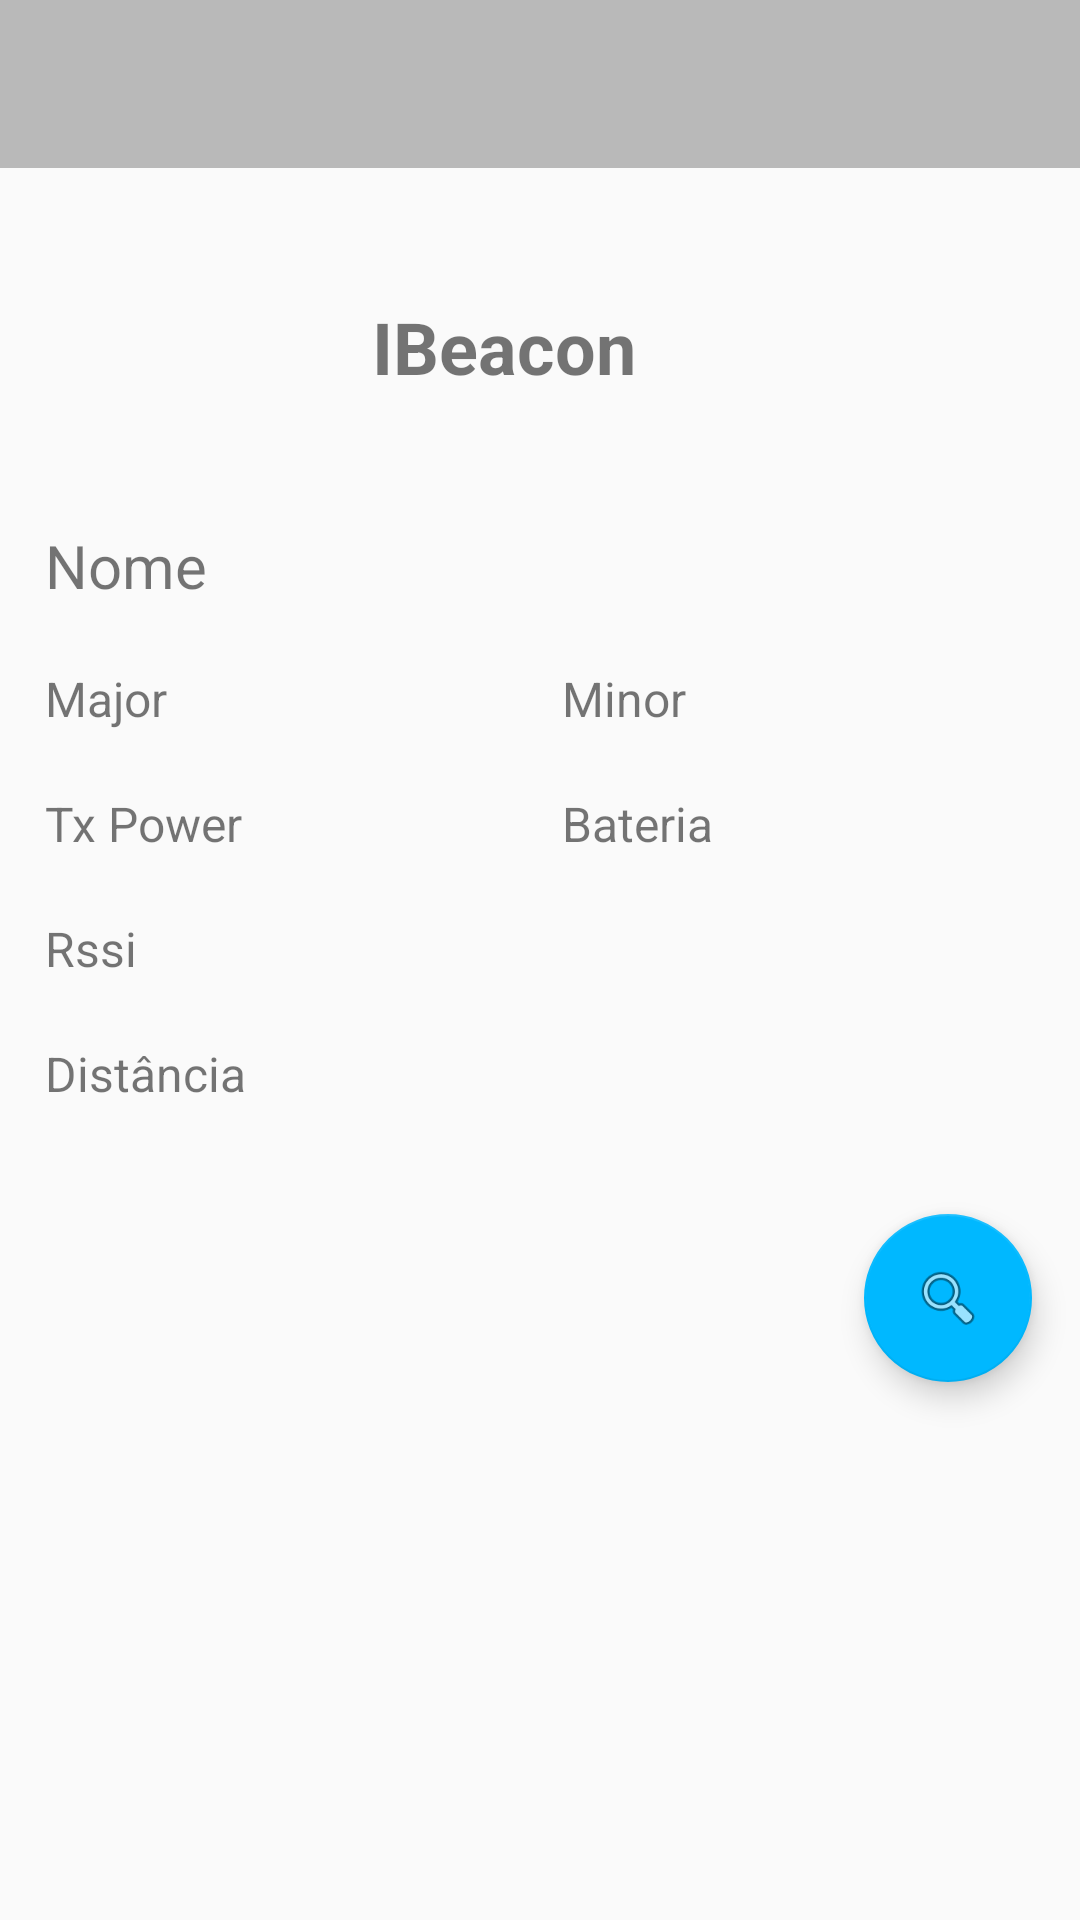

Where icons sit on this 1080 x 1920 app screen, as {"left": x1, "top": y1, "right": x2, "bottom": y2}:
search: {"left": 864, "top": 1214, "right": 1032, "bottom": 1382}
